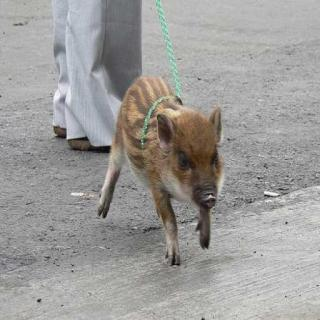Pig: (101, 73, 236, 269)
